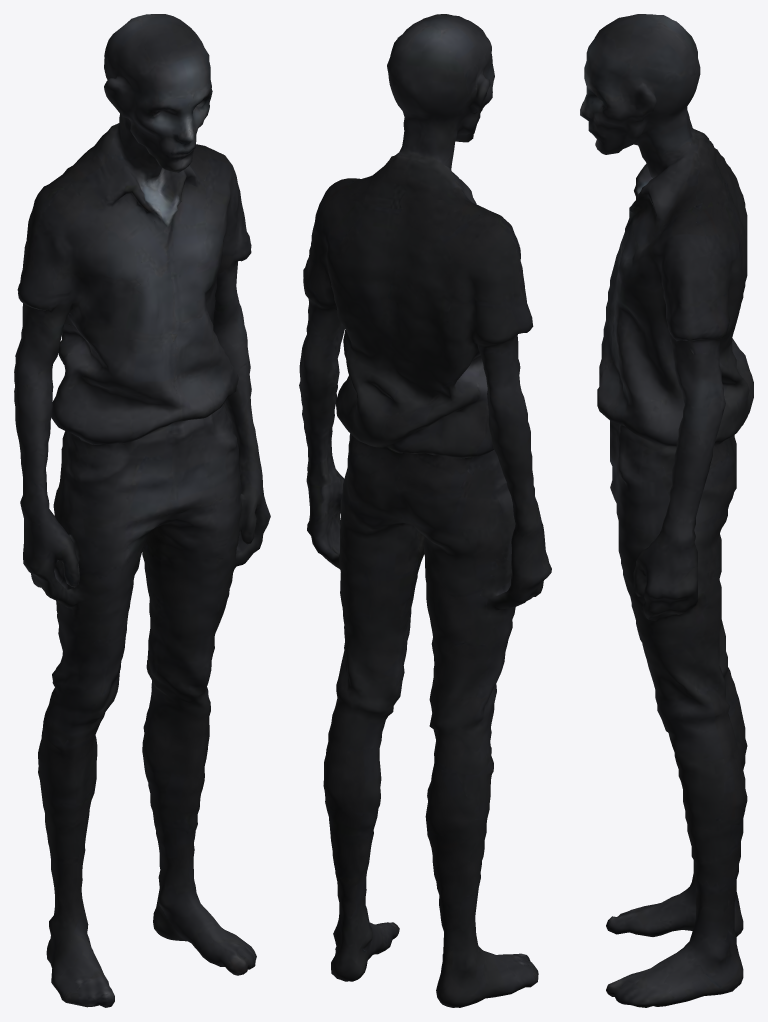
File: figure.glb
The picture shows the model from 3 angles, left to right: view 1: azimuth 30°, elevation 25°; view 2: azimuth 150°, elevation 25°; view 3: azimuth 270°, elevation 25°; orthographic projection.
Bounding box in the file's own units: 0.4853 × 1.91 × 0.317.
1 material, 1 textured.
